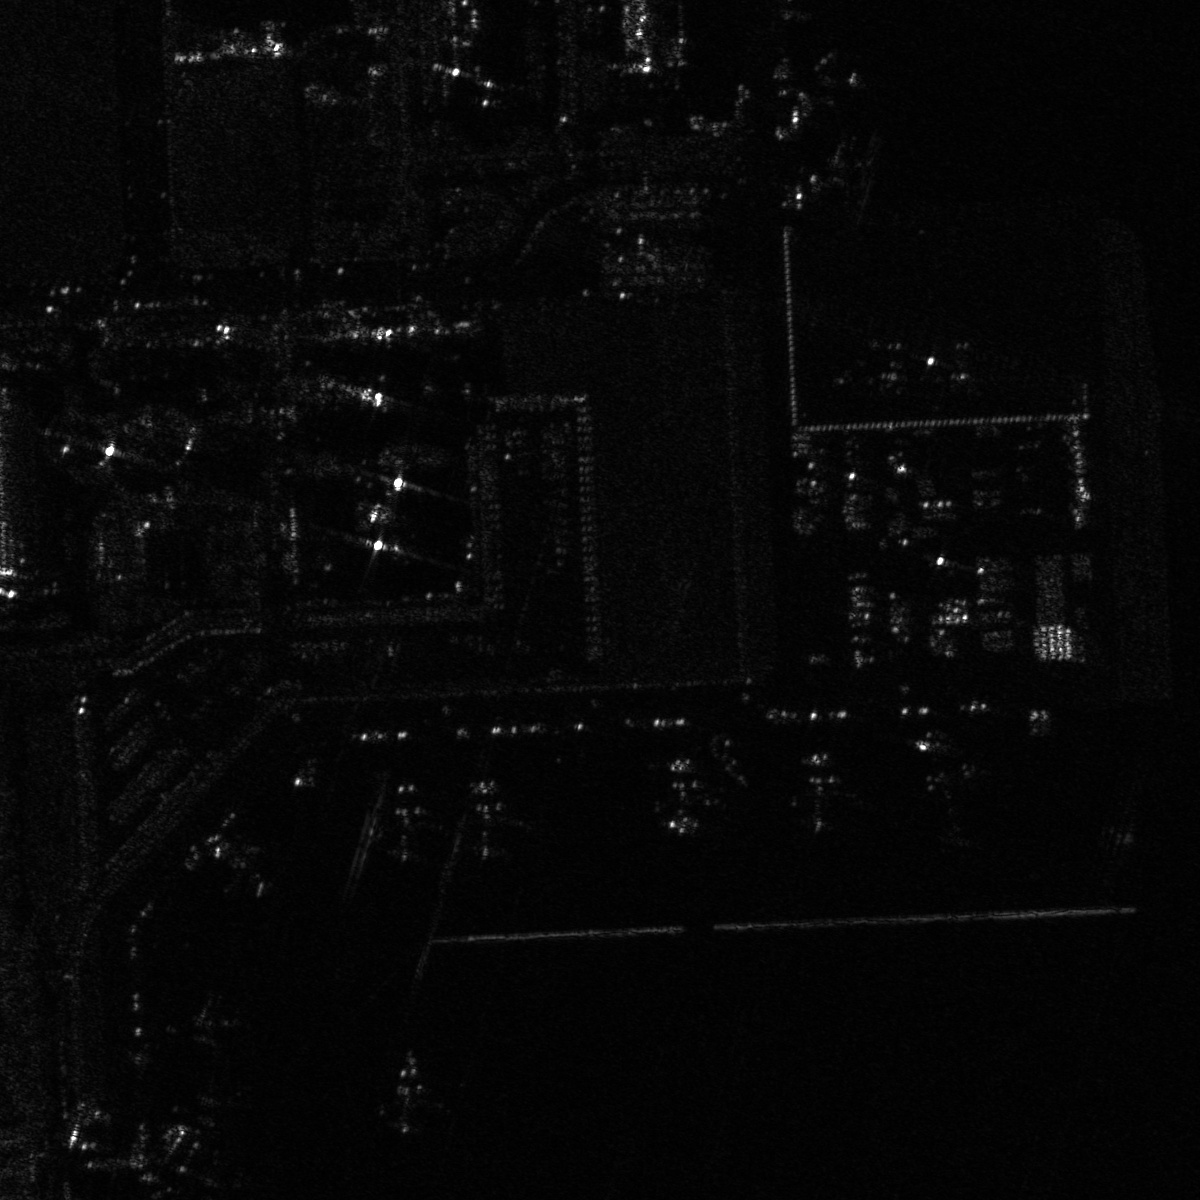A220: (774, 47, 866, 110), (160, 995, 247, 1052)
Boeing737: (911, 730, 988, 842), (358, 782, 444, 866), (448, 778, 531, 862), (784, 749, 856, 840)
other: (377, 1051, 445, 1138), (651, 757, 724, 838)
